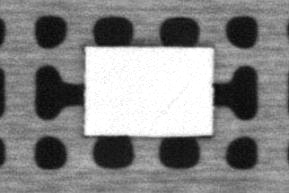DIE_CRACK: (152, 78, 192, 121)
